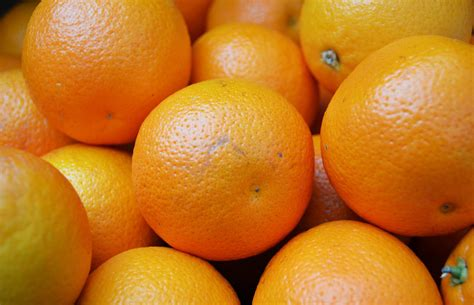orange: (125, 75, 319, 263), (316, 34, 474, 240)
